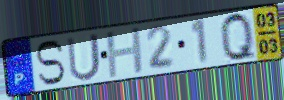1: (189, 16, 209, 67)
2: (145, 24, 177, 71)
H: (104, 25, 147, 81)
Q: (218, 10, 259, 63)
S: (34, 39, 67, 87)
U: (65, 31, 103, 83)
